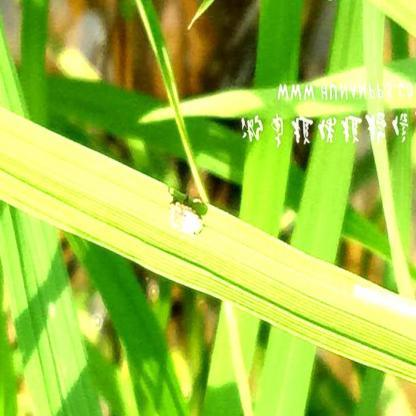rice-bug: (170, 197, 204, 238)
